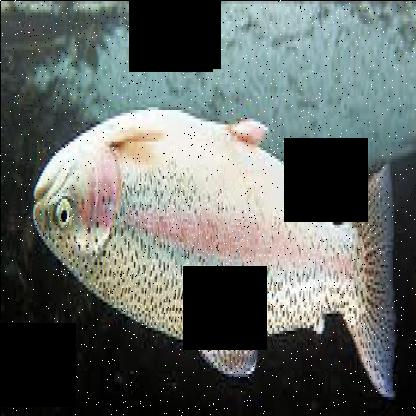fish: (31, 100, 400, 415)
